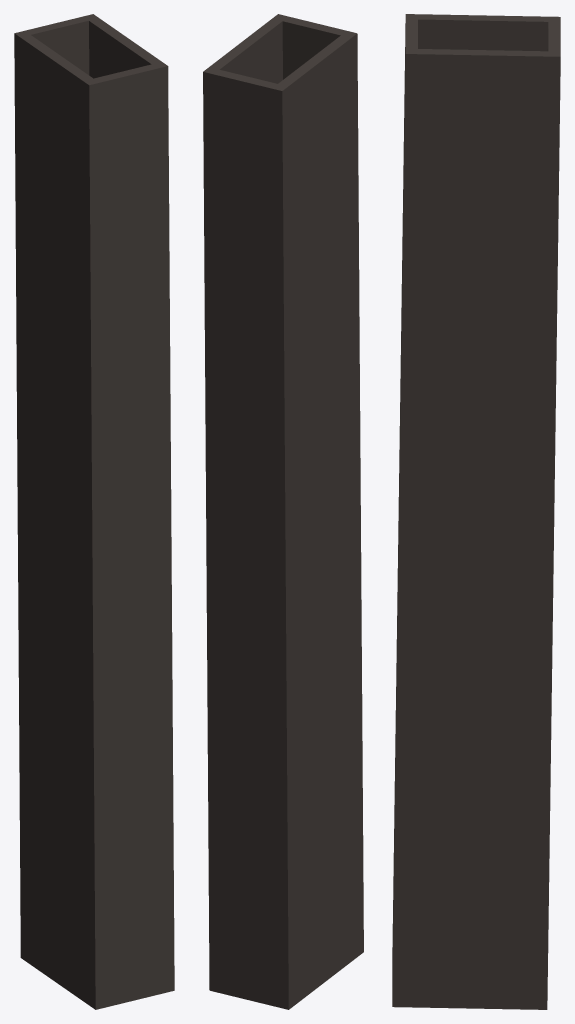
Rendered from GreaseGun_Gun.glb.
The picture shows the model from 3 angles, left to right: view 1: azimuth 30°, elevation 25°; view 2: azimuth 150°, elevation 25°; view 3: azimuth 270°, elevation 25°; orthographic projection. The views are drawn at different scales.
Visible parts, largest first — view 1: GreasegunMag; view 2: GreasegunMag; view 3: GreasegunMag.
Part boxes in pixels (x1,y1,x2,y2): GreasegunMag: [14, 14, 174, 1009]; GreasegunMag: [203, 14, 363, 1009]; GreasegunMag: [392, 14, 560, 1009].
Size of the model in its own units: 0.029 by 0.3233 by 0.0517.
1 material, 1 textured.
